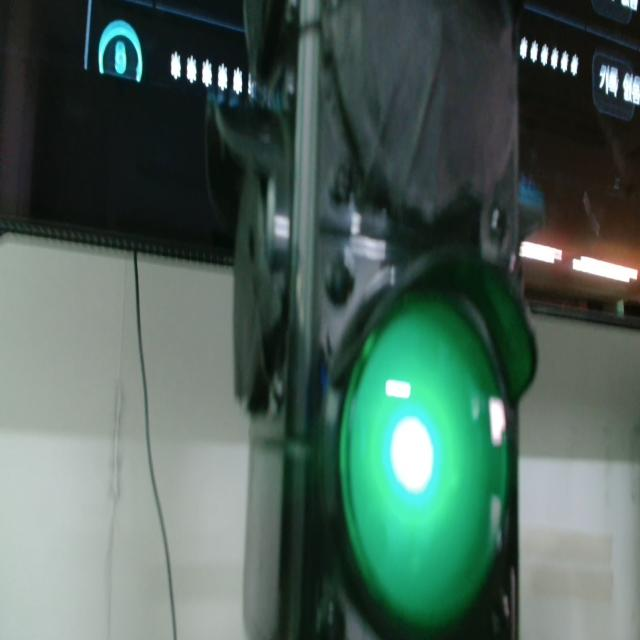green_light: (340, 297, 507, 630), (391, 417, 433, 493)
